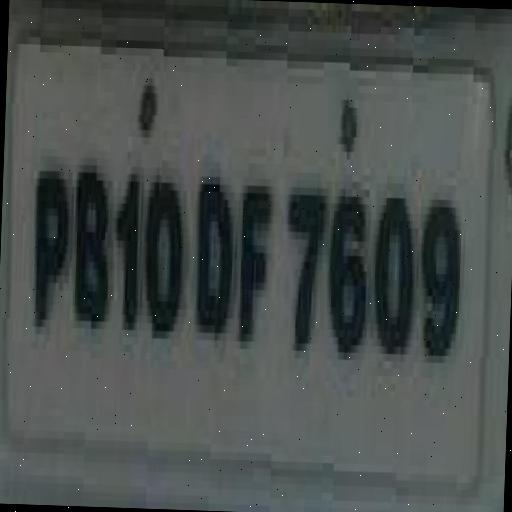number plate: (0, 6, 498, 483)
